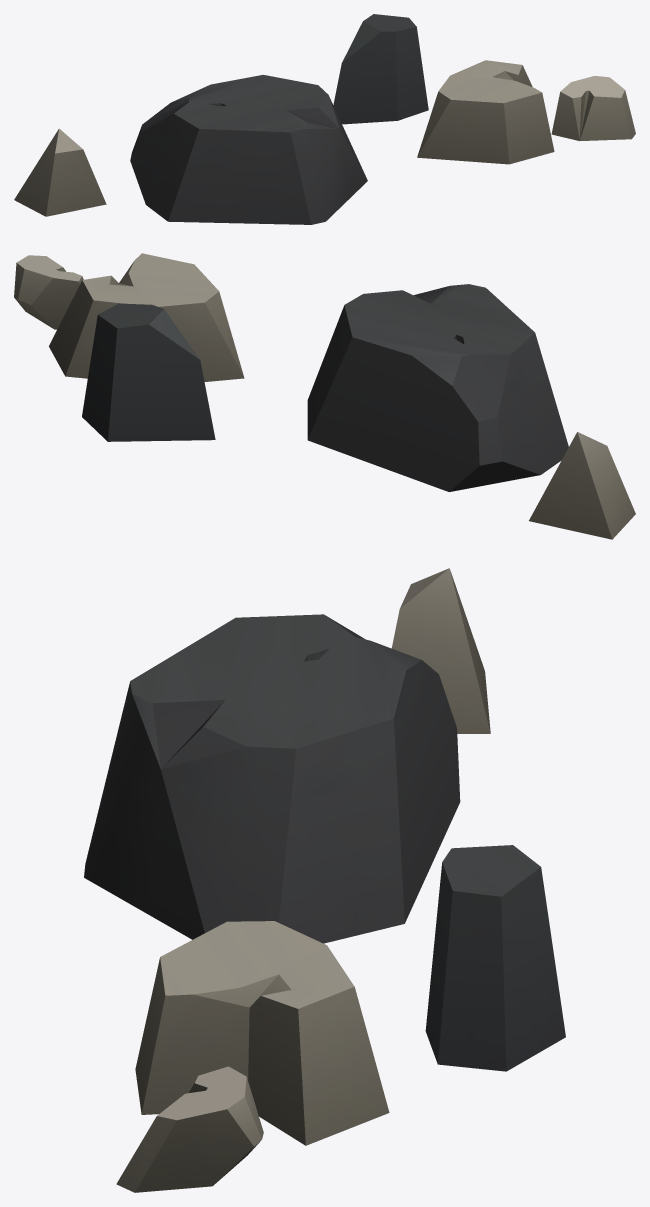
File: Rocks_1B.fbx
The picture shows the model from 3 angles, top to bottom: view 1: azimuth 30°, elevation 25°; view 2: azimuth 150°, elevation 25°; view 3: azimuth 270°, elevation 25°; orthographic projection. The views are drawn at different scales.
Parts seen in each view (by area): view 1: Rocks_1B; view 2: Rocks_1B; view 3: Rocks_1B.
Boxes of the visible parts, bbox=[...] form: Rocks_1B: bbox=[14, 14, 635, 224]; Rocks_1B: bbox=[14, 253, 635, 539]; Rocks_1B: bbox=[84, 568, 565, 1192].
Size of the model in its own units: 349 by 54.29 by 136.
